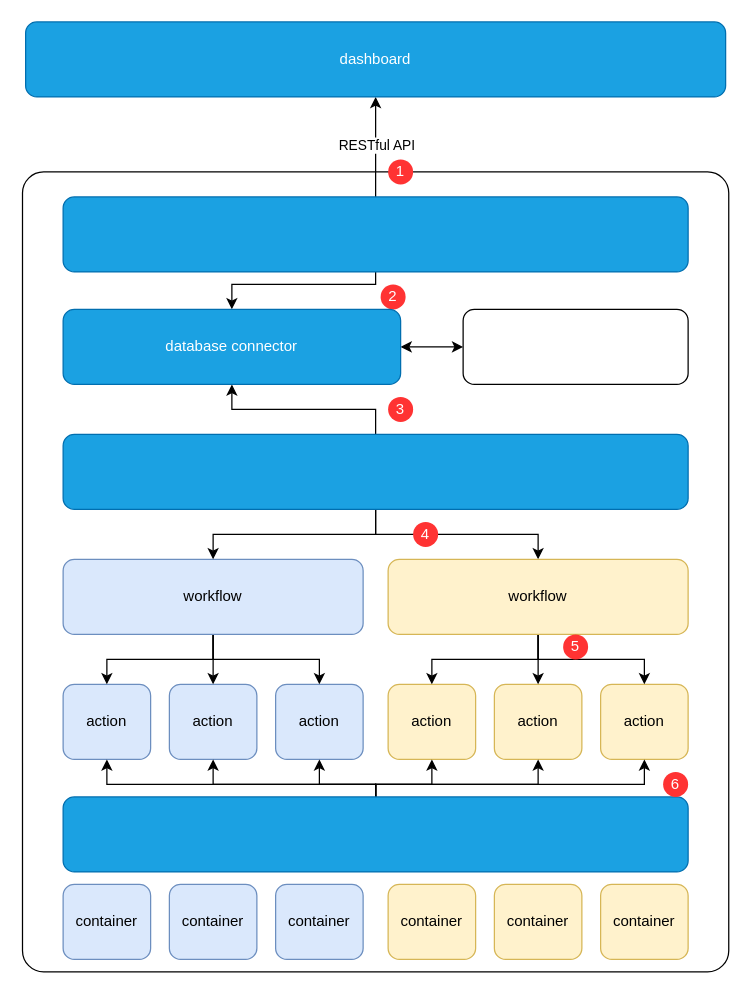
Some shapes in this 750 by 994 pixel diagram are drawn without their labels. The centre of each missing label's shape, as x and y in pixels:
bifrost apiserver: (375,234)
container manager: (375,834)
datebase: (575,346)
workflow manager: (375,471)
